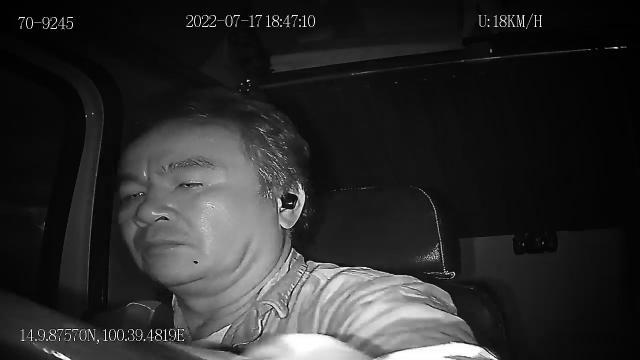SafeDriving: (168, 168, 214, 197), (115, 178, 154, 207)
Seatbelt: (148, 298, 176, 332)
